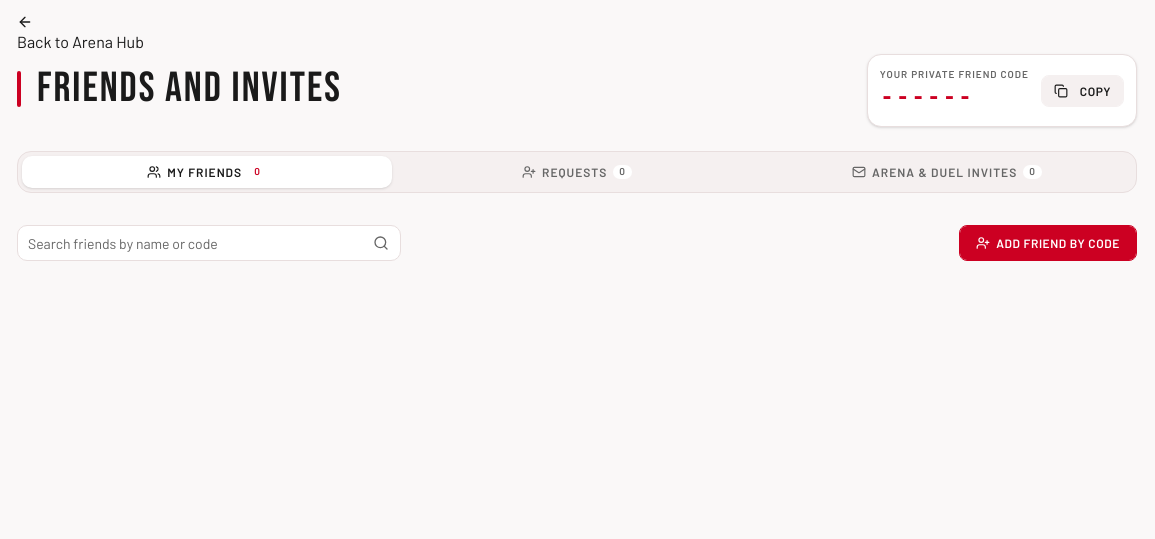
Scenario: PgFriends › rejects all req
Click the text "Requests" at (575, 172), box [542, 164, 607, 180]
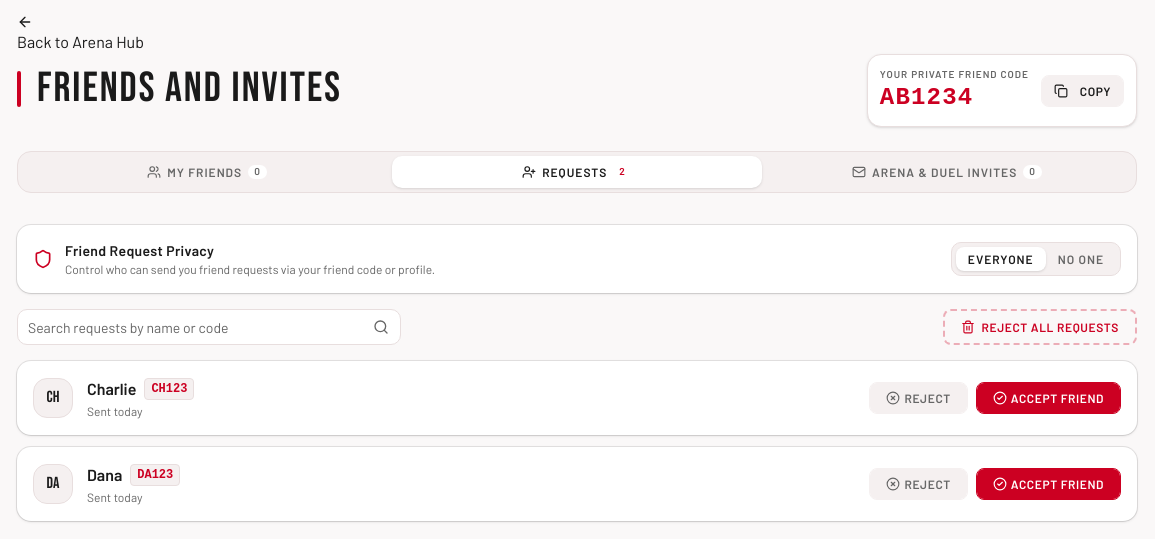
Expected: the text "Charlie" is shown, [87, 377, 136, 401]
Click the button "Reject All Requests" at (1040, 327), box [944, 309, 1137, 345]
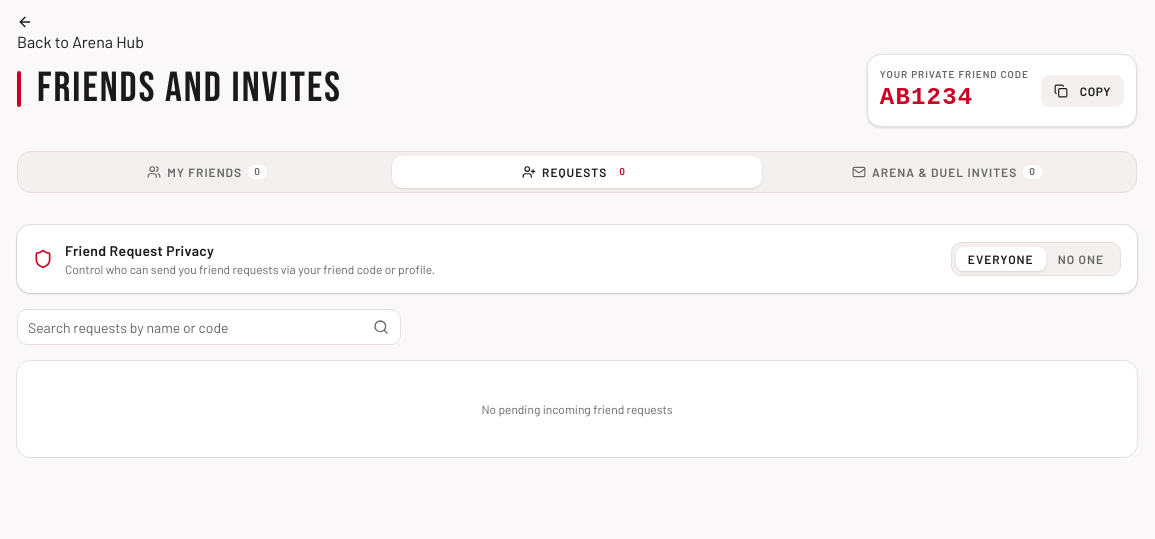
Expected: the text "No pending incoming friend requests" is shown, [17, 361, 1137, 457]
